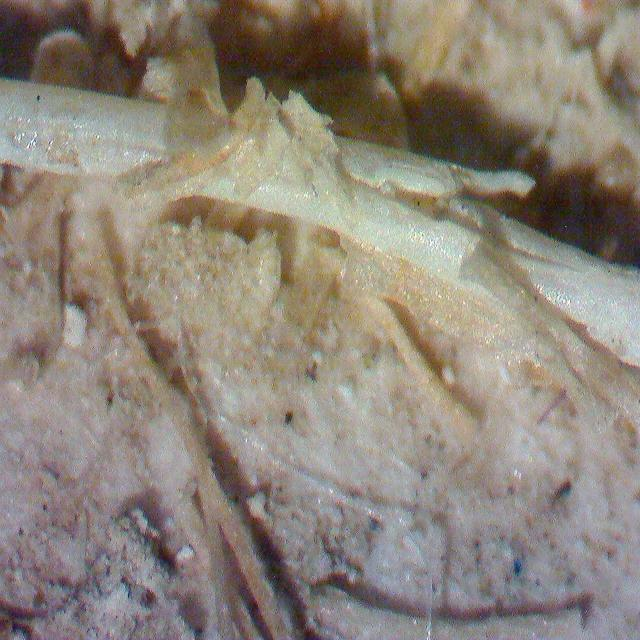microplastic: (212, 413, 431, 634)
